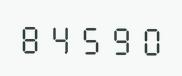eight: (18, 18, 46, 55)
five: (76, 19, 104, 56)
four: (47, 19, 75, 55)
nine: (105, 20, 133, 56)
zero: (134, 20, 162, 57)
